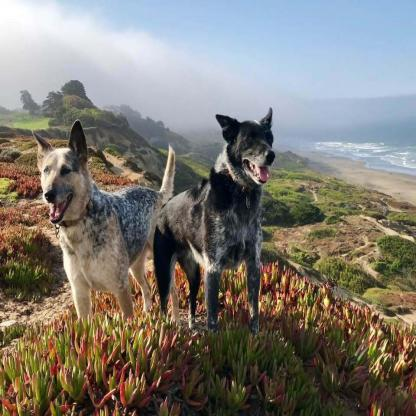Texas heeler: (159, 102, 276, 323), (20, 113, 144, 299)
